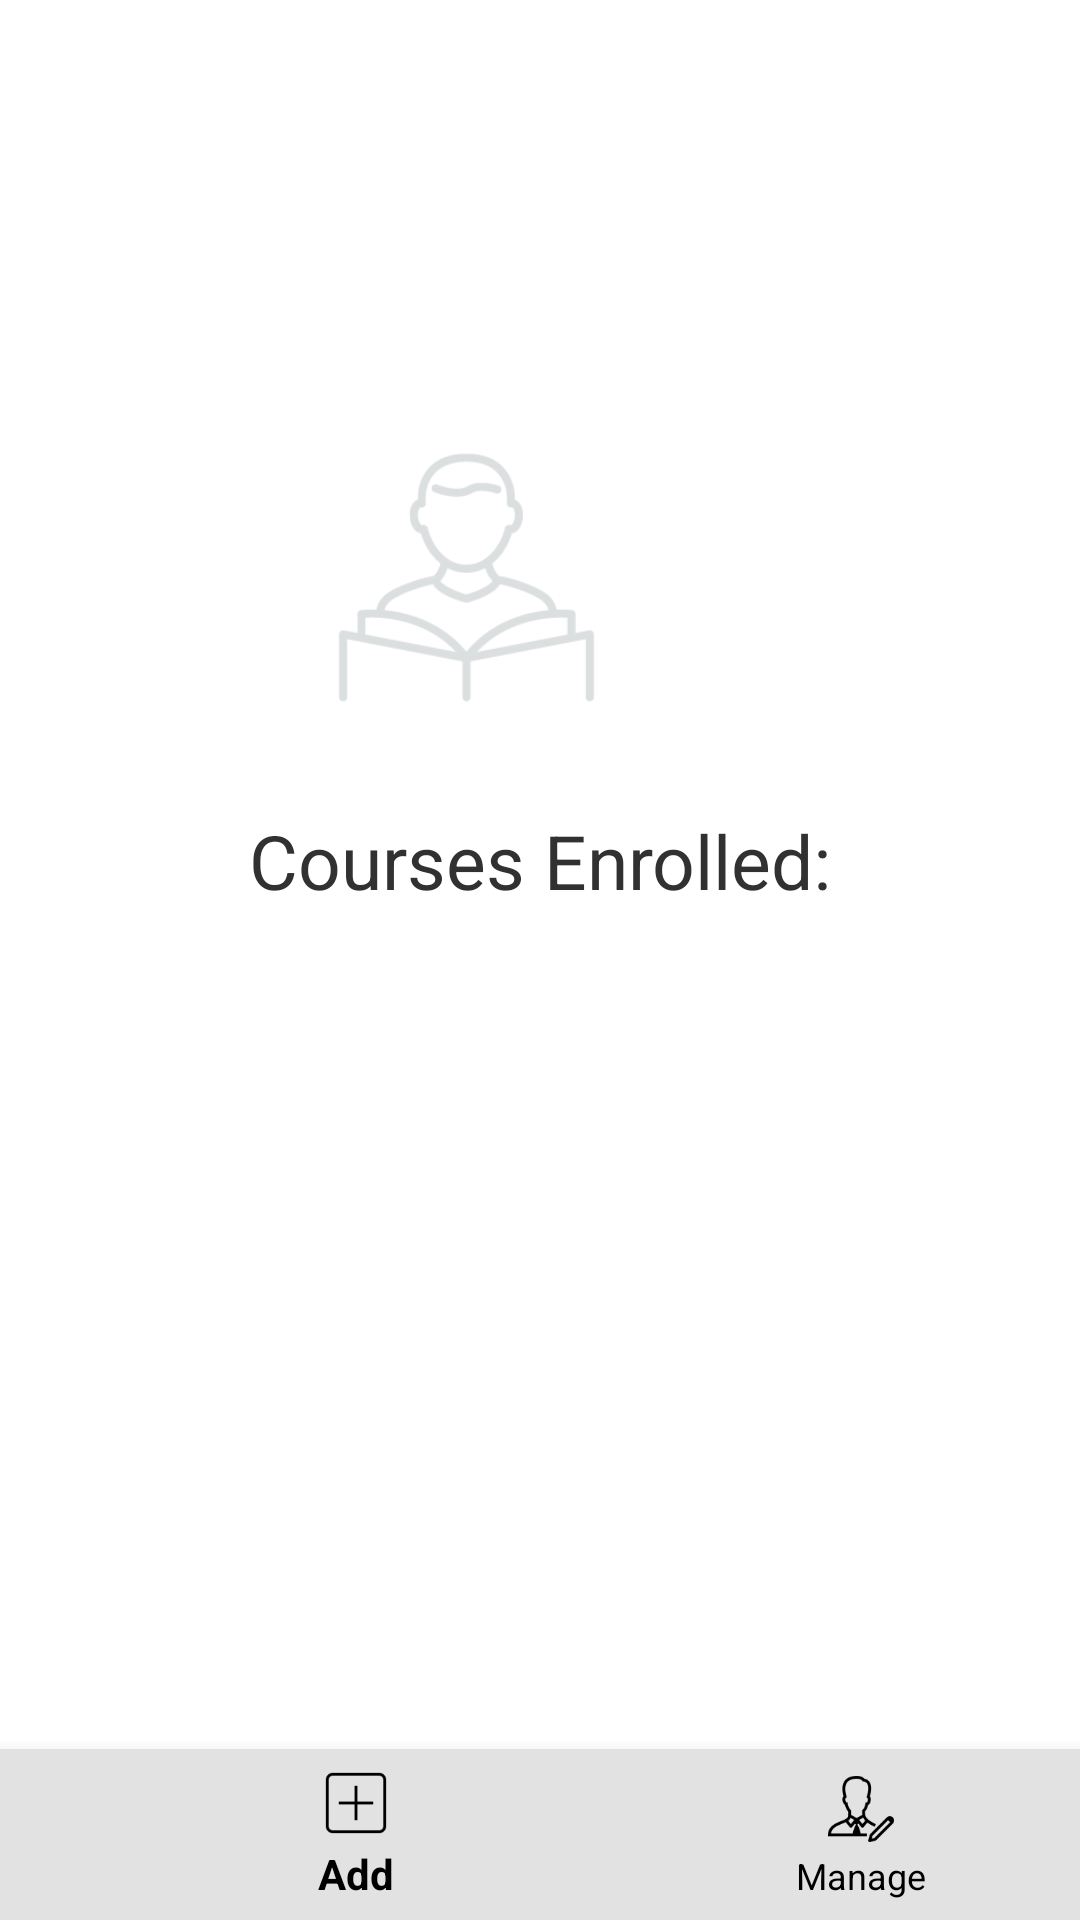

Icons on this 1080w x 1920h Android screen, each with its box as (x1, y1, x2, y2):
studenticon: (339, 454, 594, 701)
